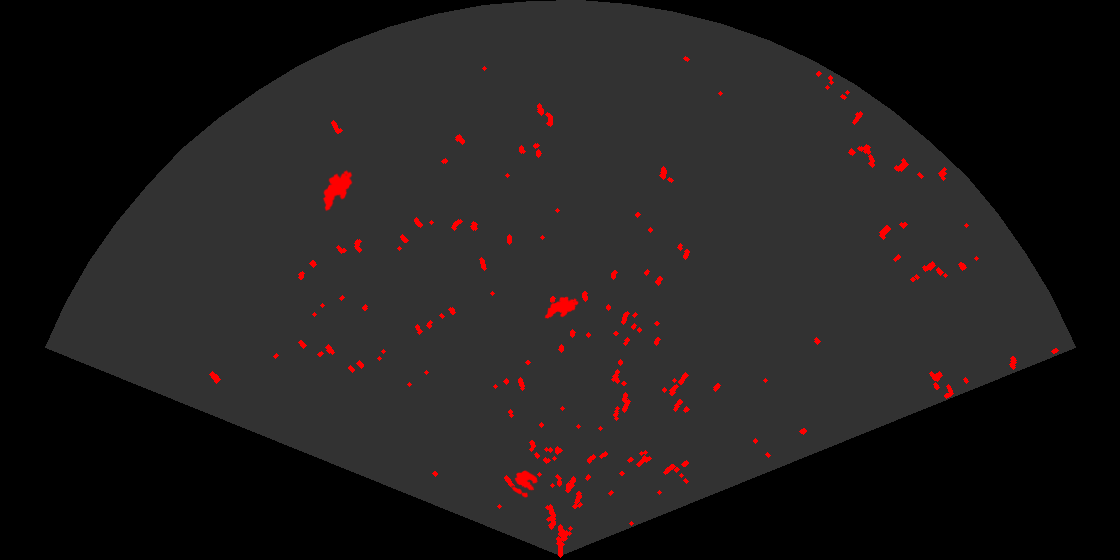AUV: (321, 168, 354, 213), (543, 295, 580, 320)
ball: (510, 469, 540, 499)
